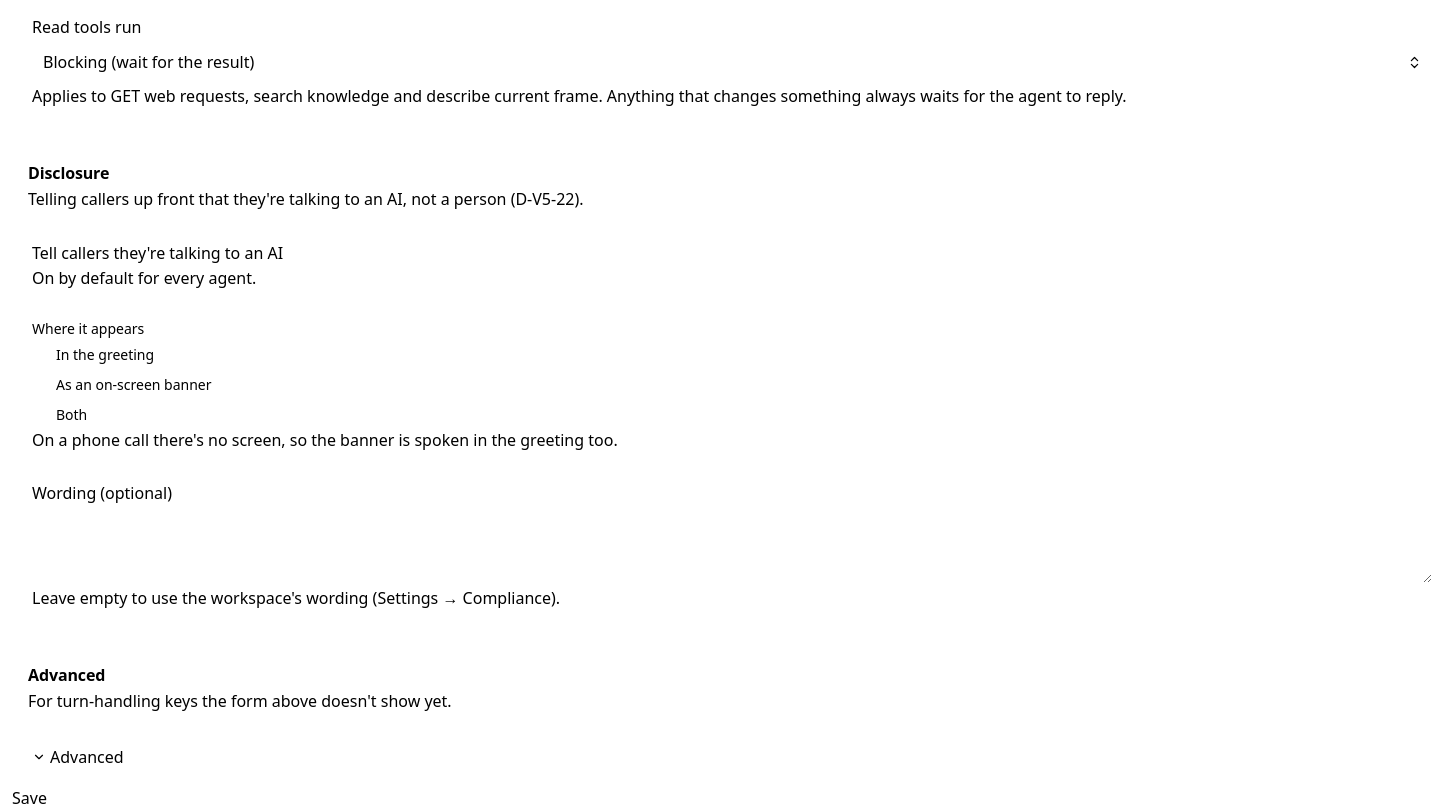
Scenario: ConversationSection › keeps the raw turn_handling JSON out of view until Advanced is opened
(page scrolled)
Check: the field labelled "Turn handling (JSON)" is not shown
Click the button "Advanced" at (78, 757), box [32,745,124,769]
(page scrolled)
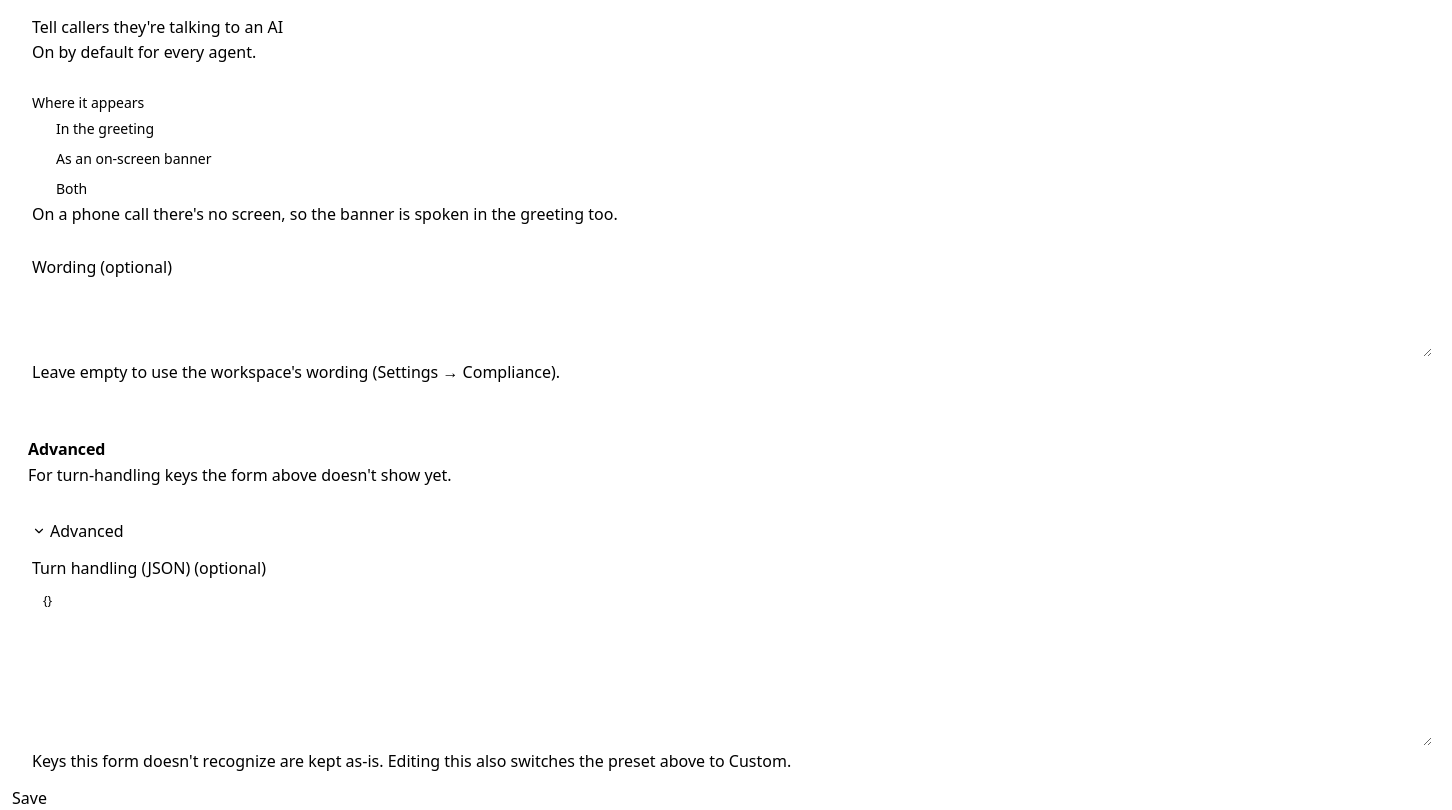
Check: the text box labelled "Turn handling (JSON)" is shown, box [32,586,1432,746]
